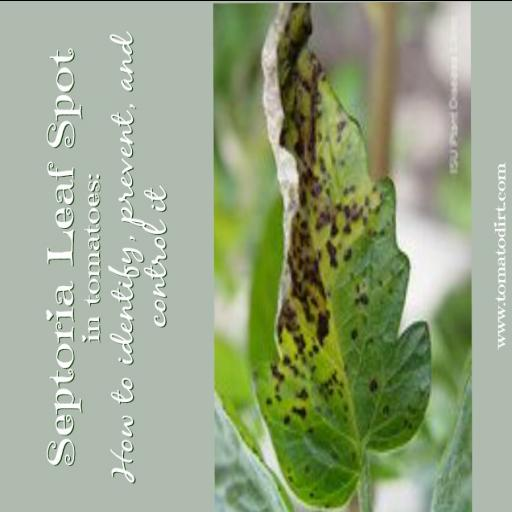Septoria: (248, 0, 436, 508)
